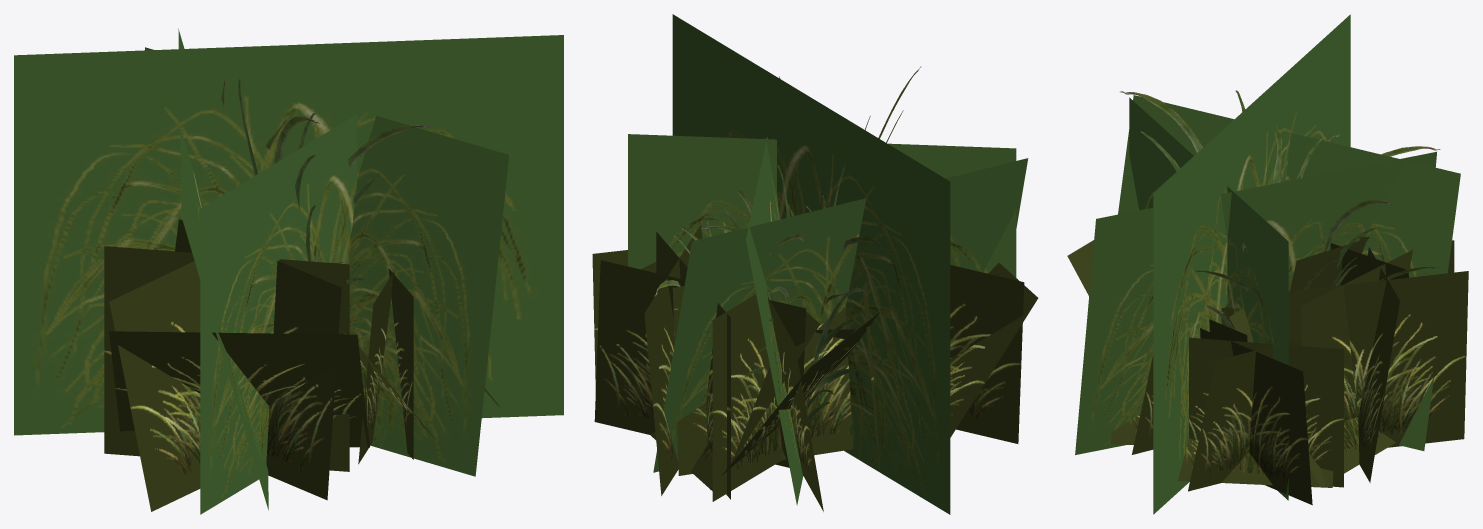
Rendered from vegetation.fbx.
The picture shows the model from 3 angles, left to right: view 1: azimuth 30°, elevation 25°; view 2: azimuth 150°, elevation 25°; view 3: azimuth 270°, elevation 25°; orthographic projection. The views are drawn at different scales.
Parts seen in each view (by area): view 1: vegetation002, vegetation003, vegetation001; view 2: vegetation002, vegetation003, vegetation001; view 3: vegetation002, vegetation003, vegetation001.
Part boxes in pixels (box(x1,y1,x2,y2)): vegetation002: box(14, 28, 563, 514); vegetation003: box(104, 219, 500, 511); vegetation001: box(221, 79, 433, 388); vegetation002: box(628, 14, 1028, 514); vegetation003: box(592, 224, 1038, 511); vegetation001: box(654, 66, 921, 421); vegetation002: box(1075, 14, 1460, 514); vegetation003: box(1067, 237, 1468, 505); vegetation001: box(1120, 90, 1441, 329).
Size of the model in its own units: 121 by 109 by 113.
